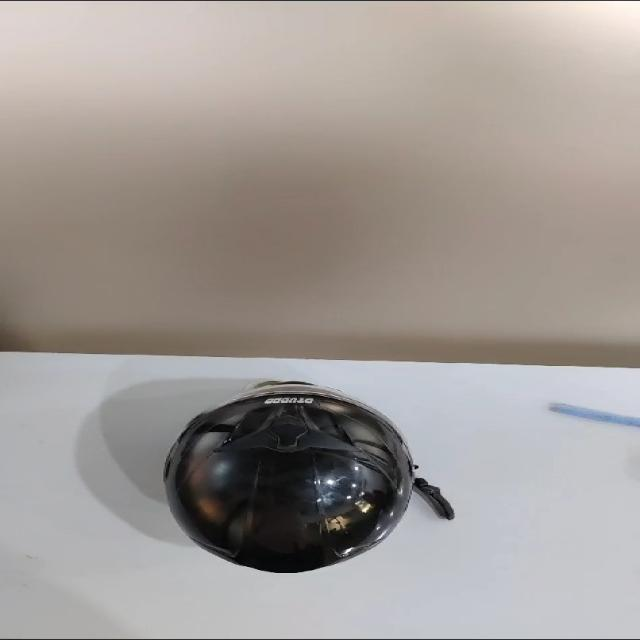helmet: (123, 380, 439, 574)
